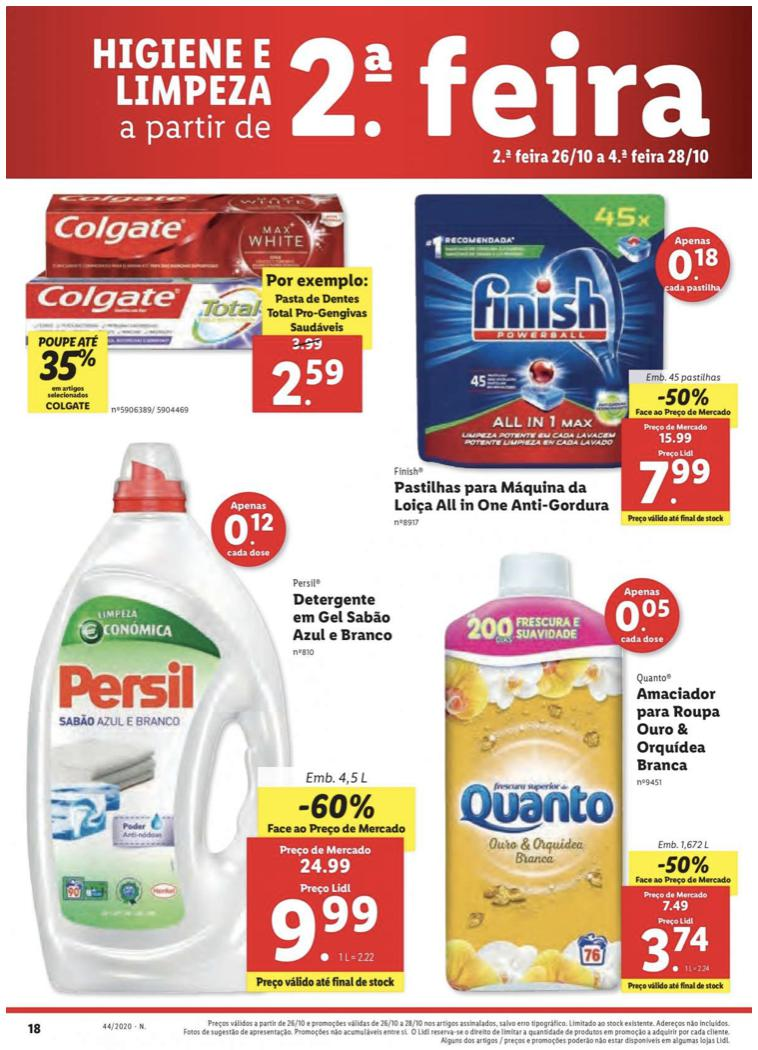product: (1, 446, 423, 1014), (440, 537, 736, 1001), (376, 173, 736, 537), (12, 186, 381, 429)
